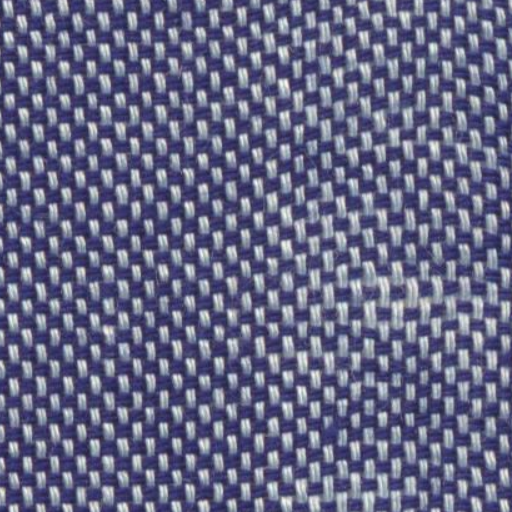TuoSha: (226, 11, 493, 494)
